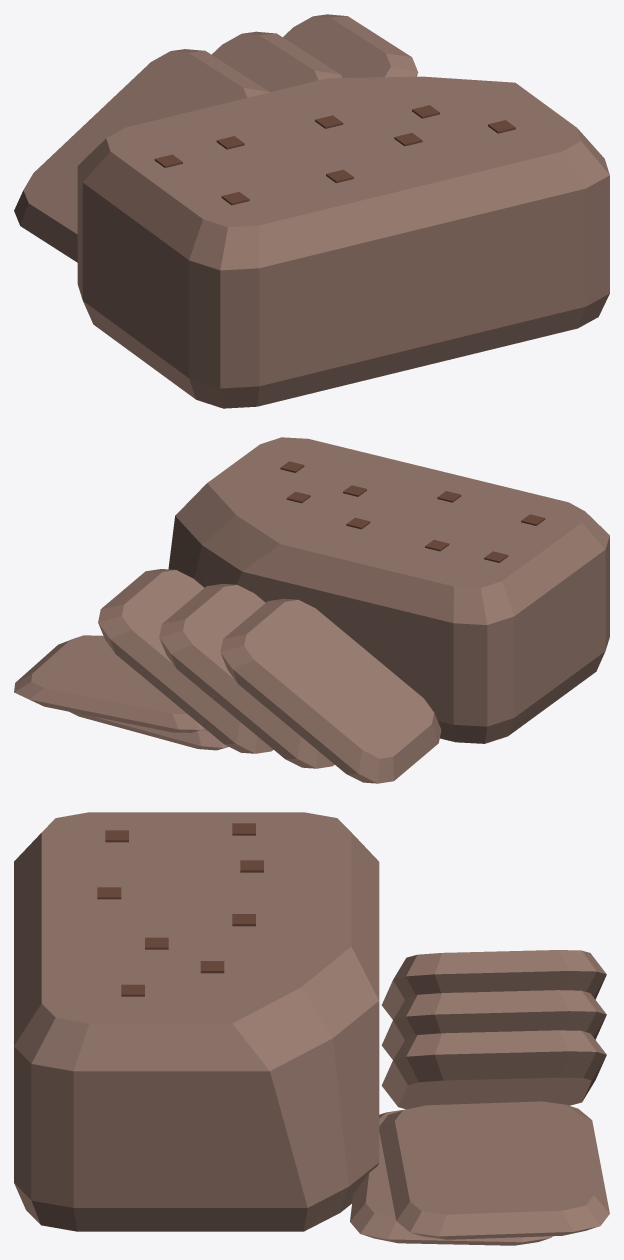
File: SM_Cook_Topping_Pate_01.fbx
3 views of the same model, one above another, from view 1: azimuth 30°, elevation 25°; view 2: azimuth 150°, elevation 25°; view 3: azimuth 270°, elevation 25° (orthographic). The views are drawn at different scales.
Parts seen in each view (by area): view 1: SM_Cook_Topping_Pate_01; view 2: SM_Cook_Topping_Pate_01; view 3: SM_Cook_Topping_Pate_01.
Part boxes in pixels (x1,y1,x2,y2): SM_Cook_Topping_Pate_01: [14, 14, 609, 408]; SM_Cook_Topping_Pate_01: [14, 437, 609, 783]; SM_Cook_Topping_Pate_01: [14, 812, 609, 1245].
Bounding box in the file's own units: 0.1612 × 0.0566 × 0.1502.
1 material, 1 textured.
